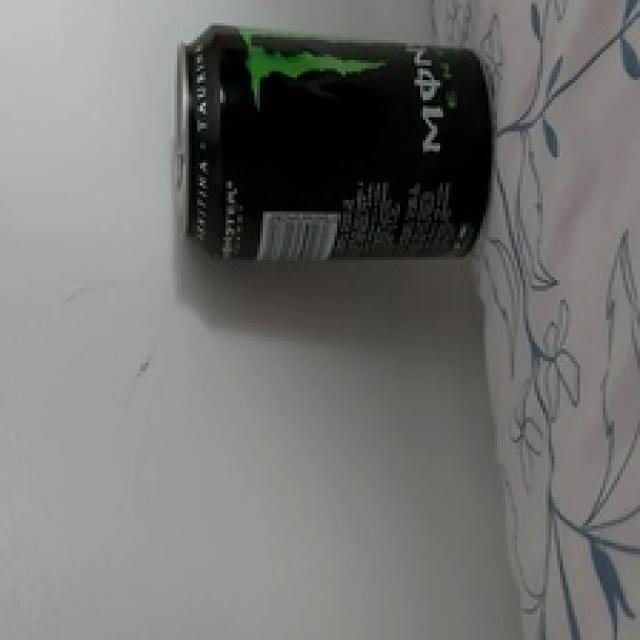recyclable: (175, 23, 496, 268)
